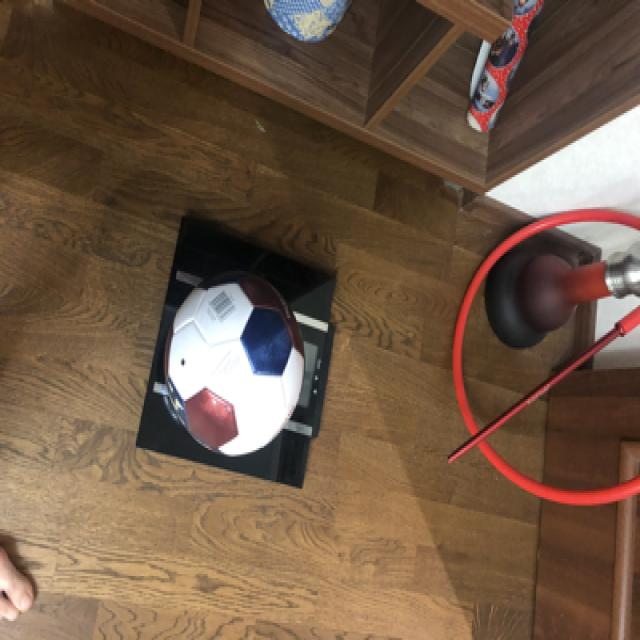soccer_ball: (160, 268, 306, 458)
